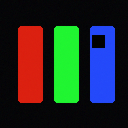1 square: (92, 35, 104, 47)
